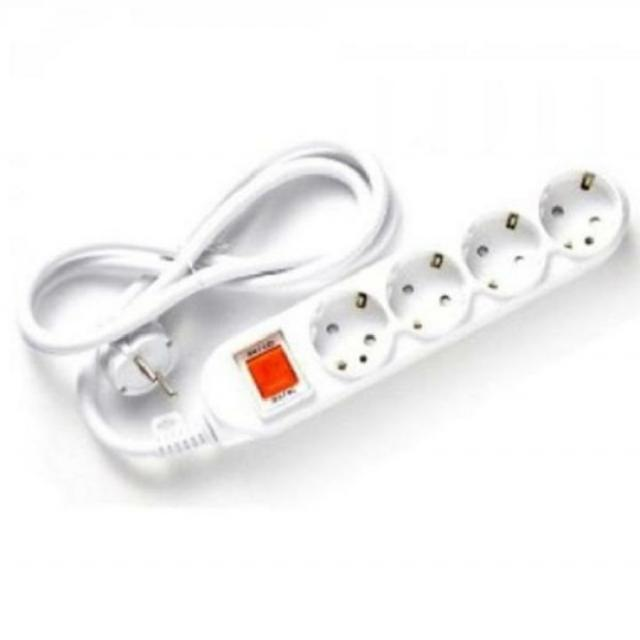typeb: (139, 149, 623, 480)
